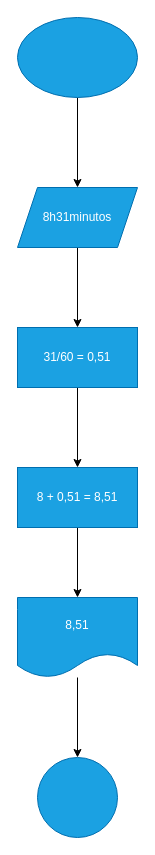
The diagram is 155 pixels wide and 855 high, and some of its shapes have lost their labels. Each missing label, with the centre of its shape:
fim: point 77,797
inicio: point 77,57
